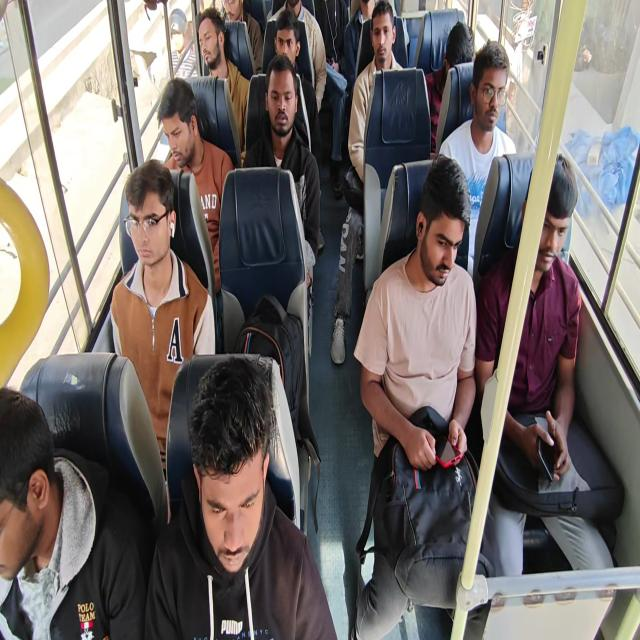person: (352, 154, 492, 638), (474, 151, 617, 577), (144, 355, 338, 639), (0, 386, 147, 639), (109, 159, 216, 481), (330, 0, 406, 365), (242, 54, 321, 294), (438, 39, 517, 276), (157, 77, 234, 293), (347, 1, 405, 184), (303, 0, 349, 198), (196, 7, 250, 155), (424, 20, 475, 154), (270, 0, 327, 114), (220, 0, 263, 75), (343, 0, 376, 93), (161, 8, 197, 80)
